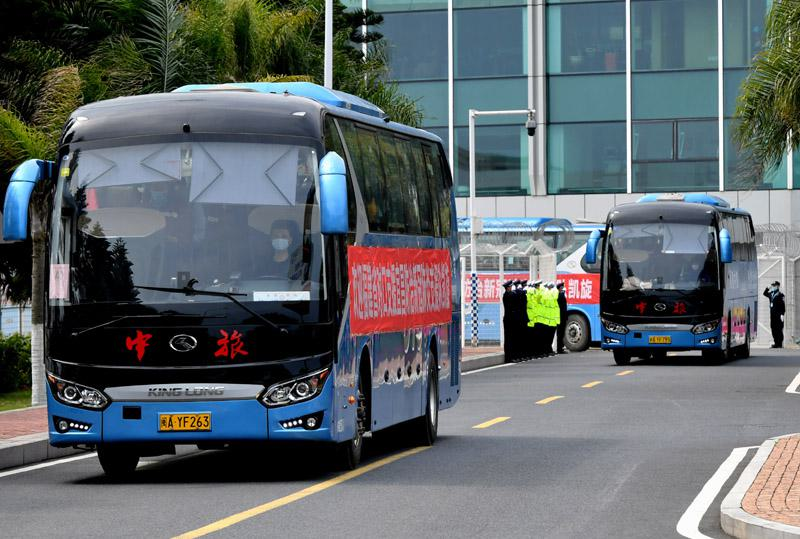bus: (18, 86, 465, 471), (589, 208, 754, 371)
person: (521, 277, 554, 352), (503, 280, 529, 358), (765, 278, 792, 351)
